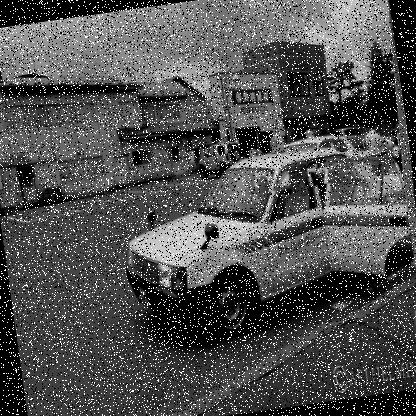Car: (112, 133, 415, 350), (239, 126, 386, 196), (196, 139, 244, 183), (332, 121, 365, 154)
